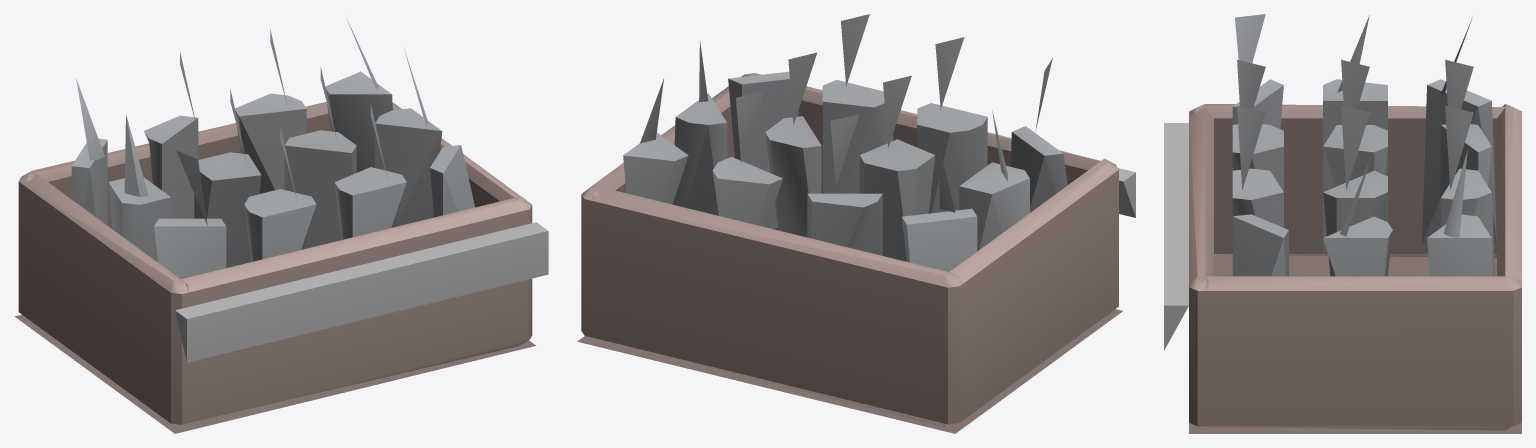
File: crate.lod2.glb
3 views of the same model, side by side, from view 1: azimuth 30°, elevation 25°; view 2: azimuth 150°, elevation 25°; view 3: azimuth 270°, elevation 25° (orthographic). The views are drawn at different scales.
Bounding box in the file's own units: 0.52 × 0.34 × 0.43.
